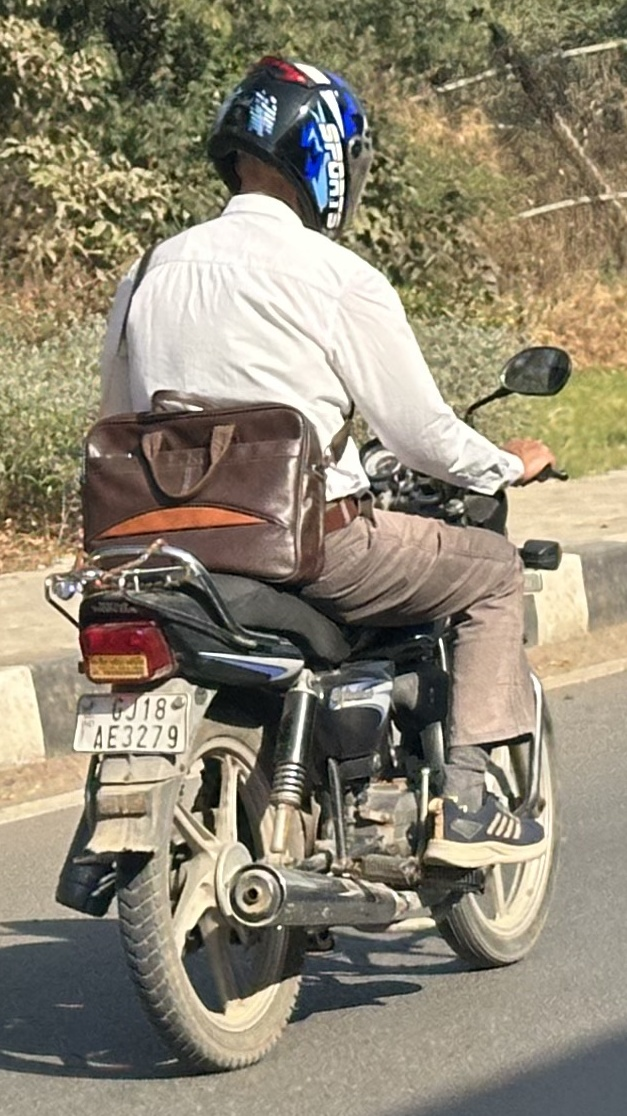BikeWithRider: (24, 39, 608, 1077)
Helmet: (194, 34, 375, 242)
